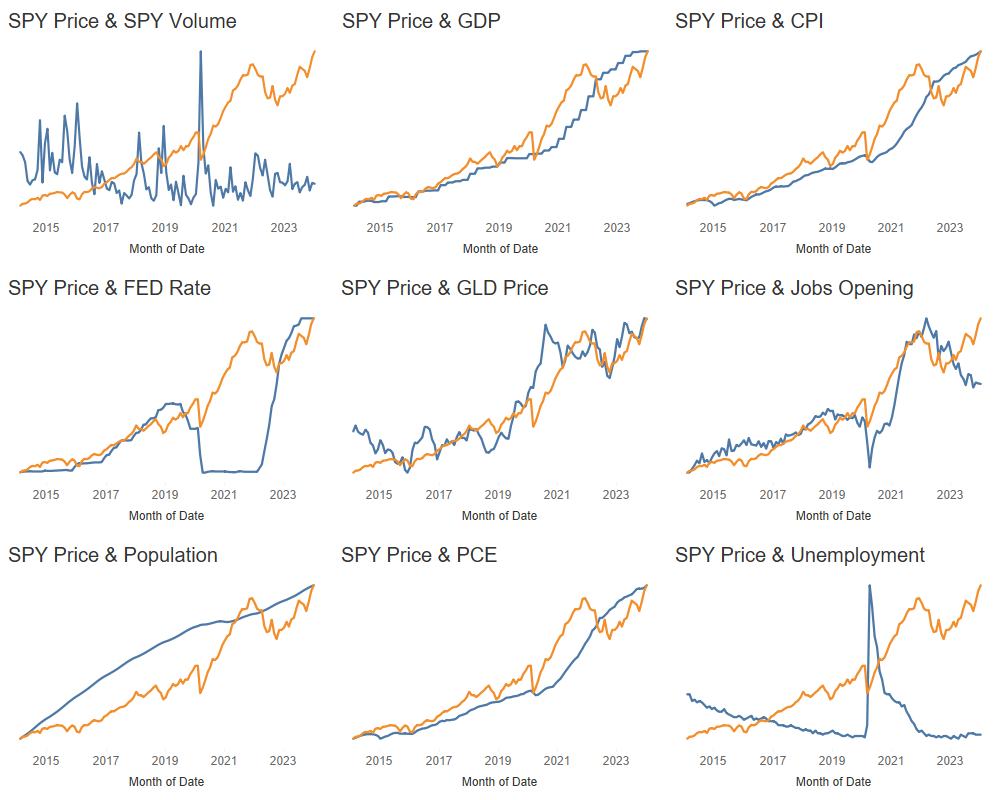

The dashboard page shown, as its layout file describes it:
{"tool":"tableau","page":{"name":"Scatter Plots (Normalized)","canvas":[1000,800],"ordinal":1},"visuals":[{"type":"worksheet","title":"SPY Price & SPY Volume","mark":"Line","rows":["AVG_VOLUME","AVG_PRICE"],"cols":["DATE"],"box":[0,0,334,267]},{"type":"worksheet","title":"SPY Price & GDP","mark":"Line","rows":["GDP","AVG_PRICE"],"cols":["DATE"],"box":[334,0,333,267]},{"type":"worksheet","title":"SPY Price & CPI","mark":"Line","rows":["CPI","AVG_PRICE"],"cols":["DATE"],"box":[667,0,333,267]},{"type":"worksheet","title":"SPY Price & FED Rate","mark":"Line","rows":["FEDRATE","AVG_PRICE"],"cols":["DATE"],"box":[0,267,333.3,267]},{"type":"worksheet","title":"SPY Price & GLD Price","mark":"Line","rows":["GLD_PRICE","AVG_PRICE"],"cols":["DATE"],"box":[333.3,267,333.3,267]},{"type":"worksheet","title":"SPY Price & Jobs Opening","mark":"Line","rows":["JO","AVG_PRICE"],"cols":["DATE"],"box":[666.7,267,333.3,267]},{"type":"worksheet","title":"SPY Price & Population","mark":"Line","rows":["POP","AVG_PRICE"],"cols":["DATE"],"box":[0,534,333.3,266]},{"type":"worksheet","title":"SPY Price & PCE","mark":"Line","rows":["PCE","AVG_PRICE"],"cols":["DATE"],"box":[333.3,534,333.3,266]},{"type":"worksheet","title":"SPY Price & Unemployment","mark":"Line","rows":["UNRATE","AVG_PRICE"],"cols":["DATE"],"box":[666.7,534,333.3,266]}]}

Visuals, with their boxes in screenshot pixels (x1, y1, x2, y2), scaled from the page's 1000x800 canvas onto the 1000x800 screenshot:
"SPY Price & SPY Volume" worksheet (Line marks): [0,0,334,267]
"SPY Price & GDP" worksheet (Line marks): [334,0,667,267]
"SPY Price & CPI" worksheet (Line marks): [667,0,999,267]
"SPY Price & FED Rate" worksheet (Line marks): [0,267,333,534]
"SPY Price & GLD Price" worksheet (Line marks): [333,267,667,534]
"SPY Price & Jobs Opening" worksheet (Line marks): [667,267,999,534]
"SPY Price & Population" worksheet (Line marks): [0,534,333,799]
"SPY Price & PCE" worksheet (Line marks): [333,534,667,799]
"SPY Price & Unemployment" worksheet (Line marks): [667,534,999,799]
